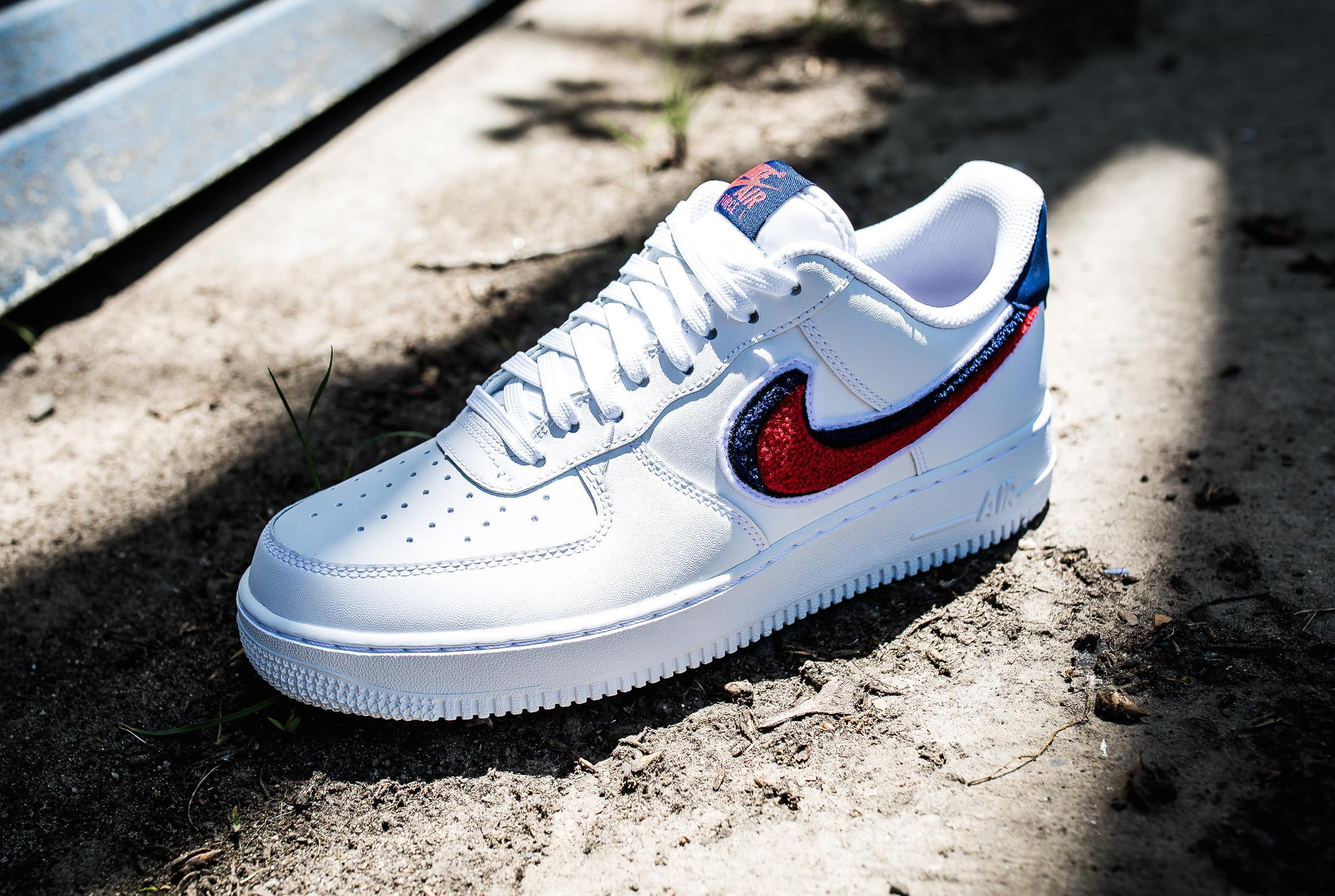sneaker: (233, 147, 1066, 721)
